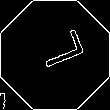L_W: (26, 31, 84, 79)
